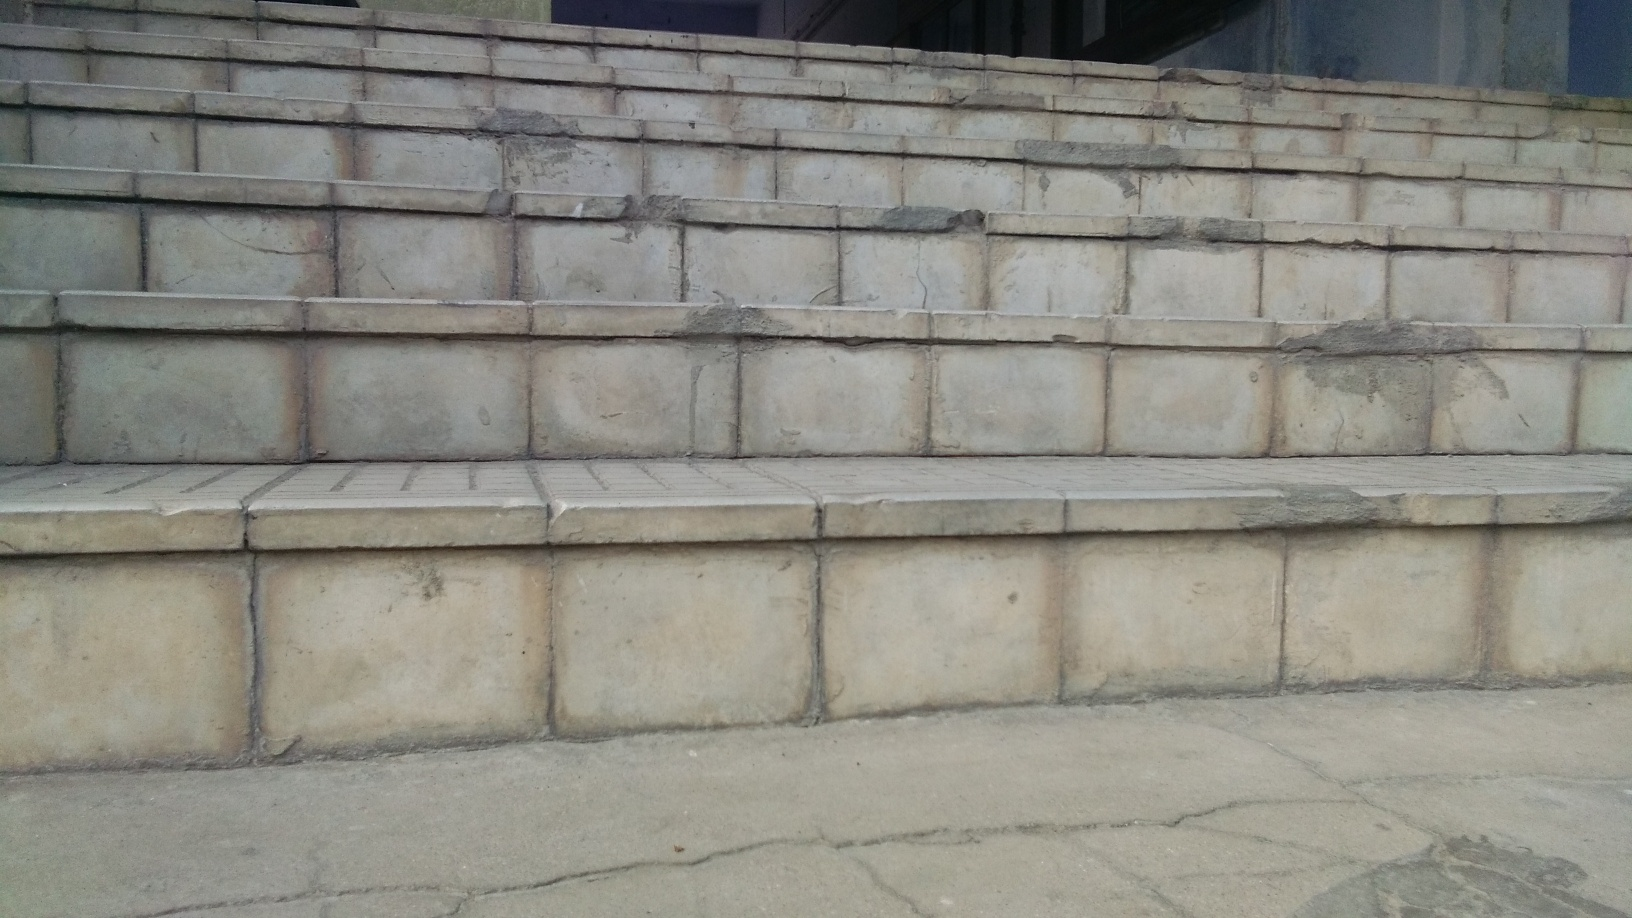stairs_up: (12, 62, 1623, 723)
